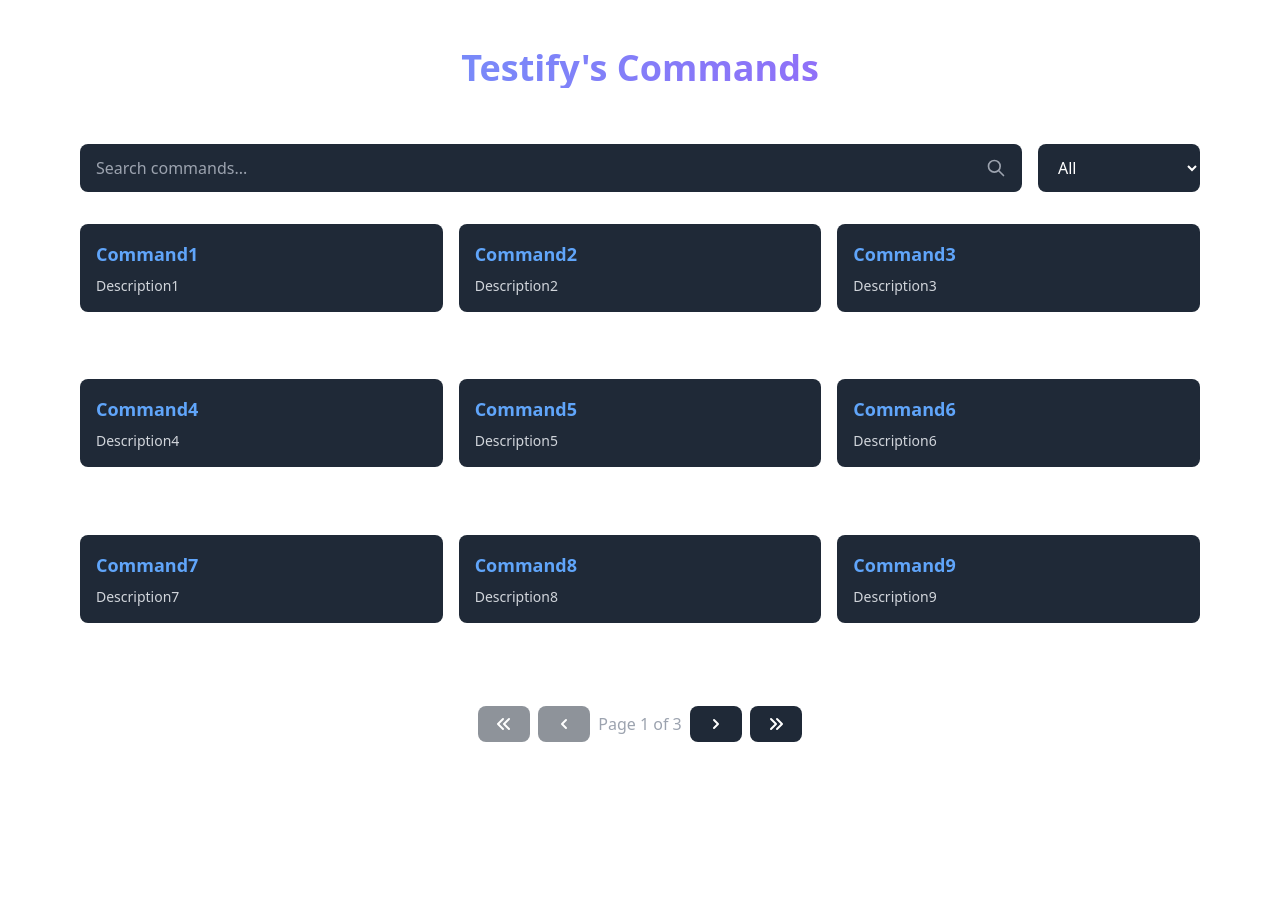
Test: CommandSearch › should paginate commands to next page
Expected: the heading "Command1" is shown, x1=96 y1=242 x2=198 y2=266
Expected: the heading "Command9" is shown, x1=853 y1=553 x2=956 y2=577
Click the button with test id "next-page-button".
click(716, 724)  # box x1=690 y1=706 x2=742 y2=742
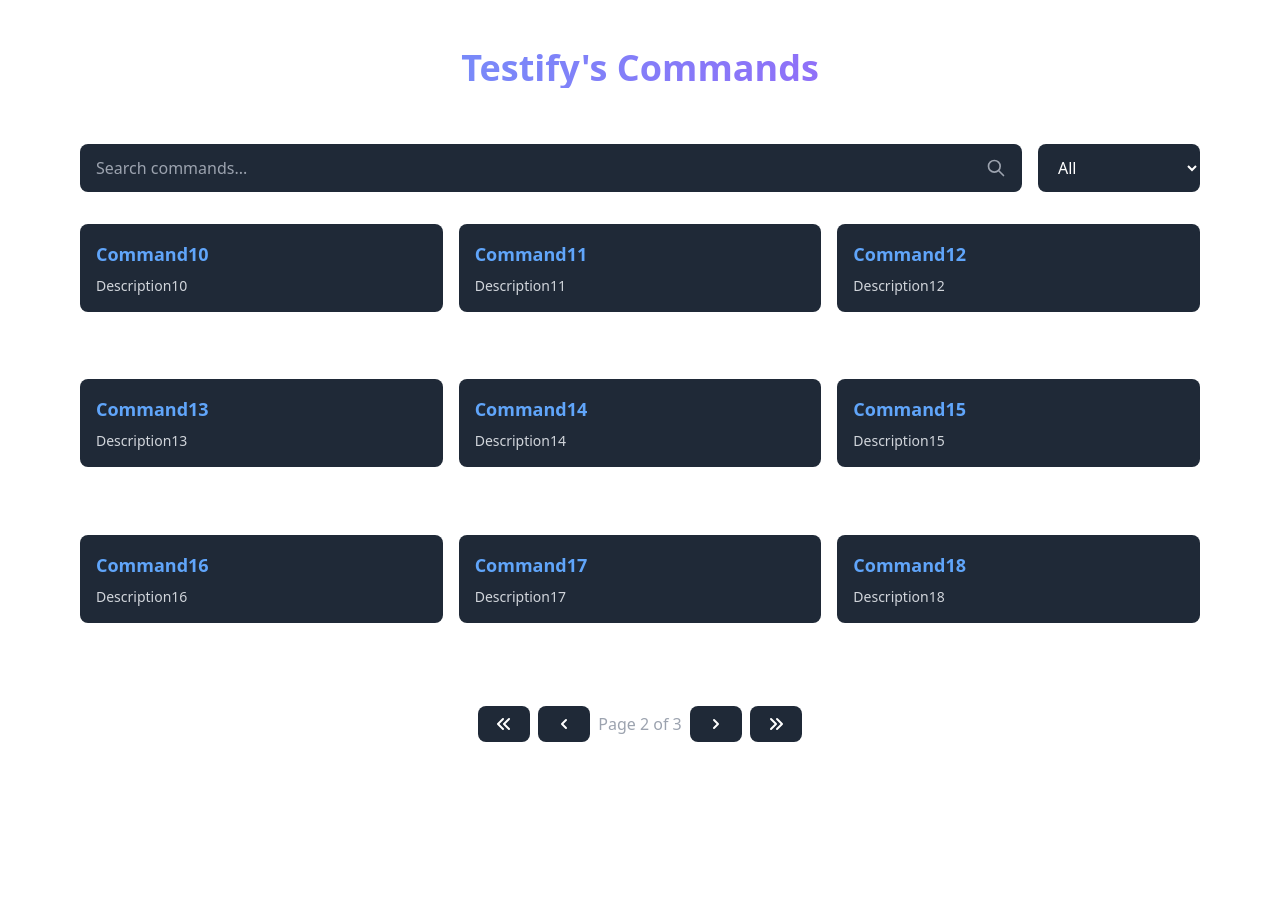
Now the heading "Command10" is shown, box x1=96 y1=242 x2=209 y2=266
Now the heading "Command18" is shown, box x1=853 y1=553 x2=966 y2=577
